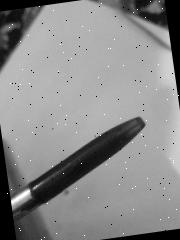plastic: (1, 116, 156, 222)
